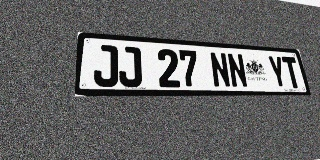2: (157, 48, 180, 87)
7: (178, 50, 200, 87)
J: (93, 44, 118, 87), (119, 46, 142, 87)
N: (226, 53, 249, 88), (209, 52, 231, 88)
T: (281, 56, 302, 88)
Y: (267, 55, 288, 88)
